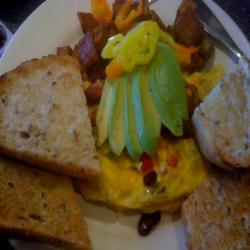bread: (1, 56, 108, 182), (3, 151, 97, 250), (194, 65, 250, 174), (177, 175, 250, 247)
omelette: (82, 58, 215, 214)
